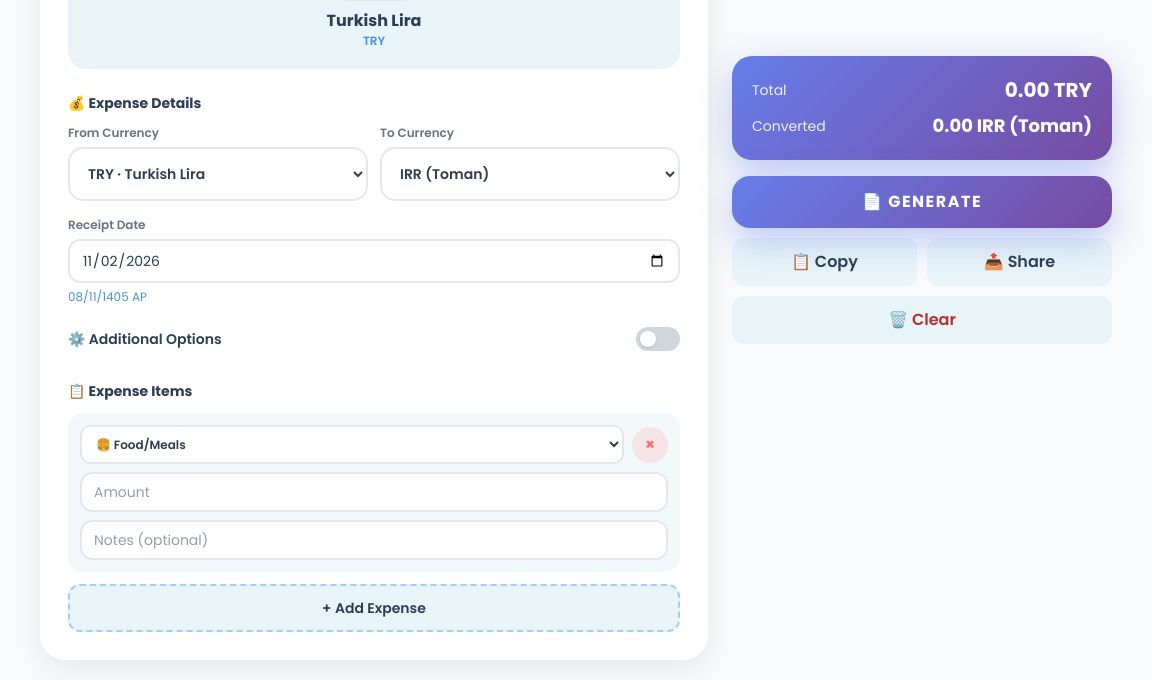
Receipt — the form (characterization for the WS-4 split) › the happy path: Generate opens the paper modal with the item rows, TOTAL and Receipt ID
(page scrolled)
Type "100" into the field named "Amount 1".
click(374, 492); type("100")  # box [80,472,668,512]
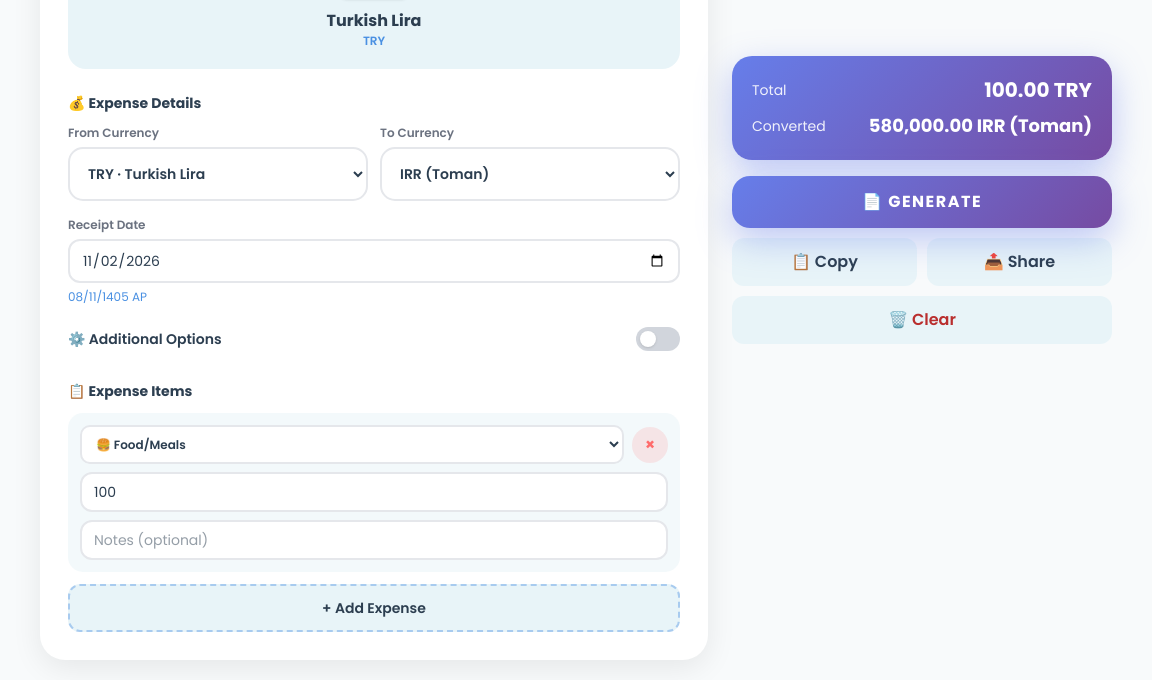
Type "kebab" into the field with placeholder "Notes (optional)".
click(374, 540); type("kebab")  # box [80,520,668,560]
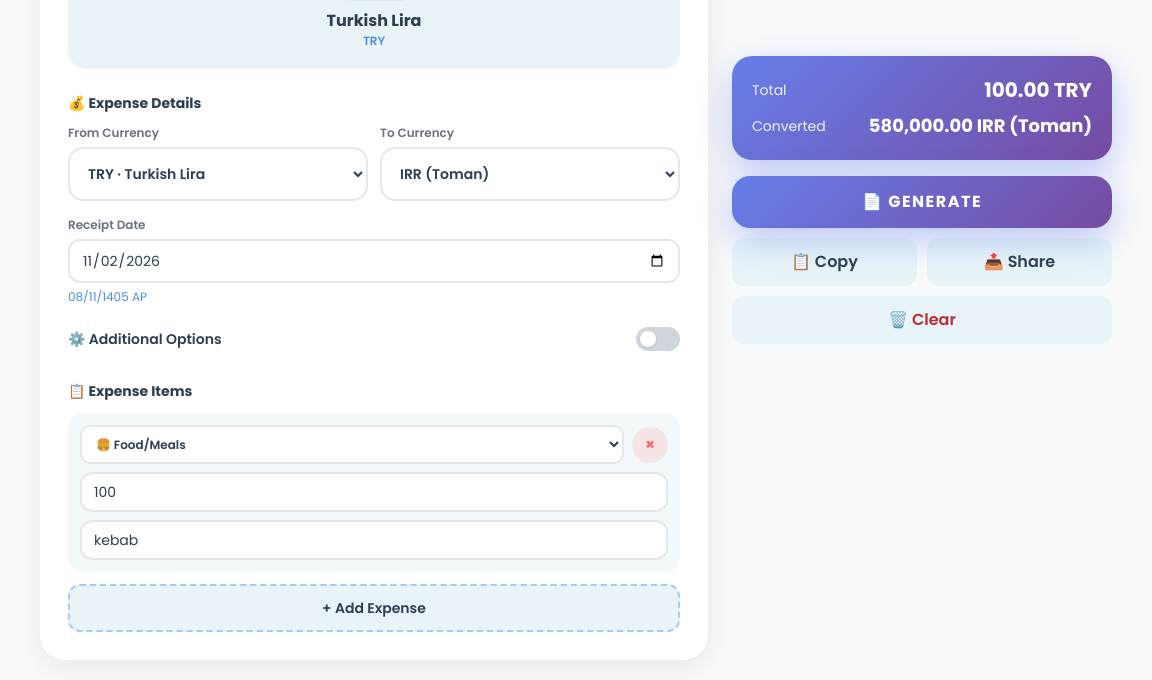
Click the button "📄 Generate".
click(922, 202)  # box [732,176,1112,228]
(page scrolled)
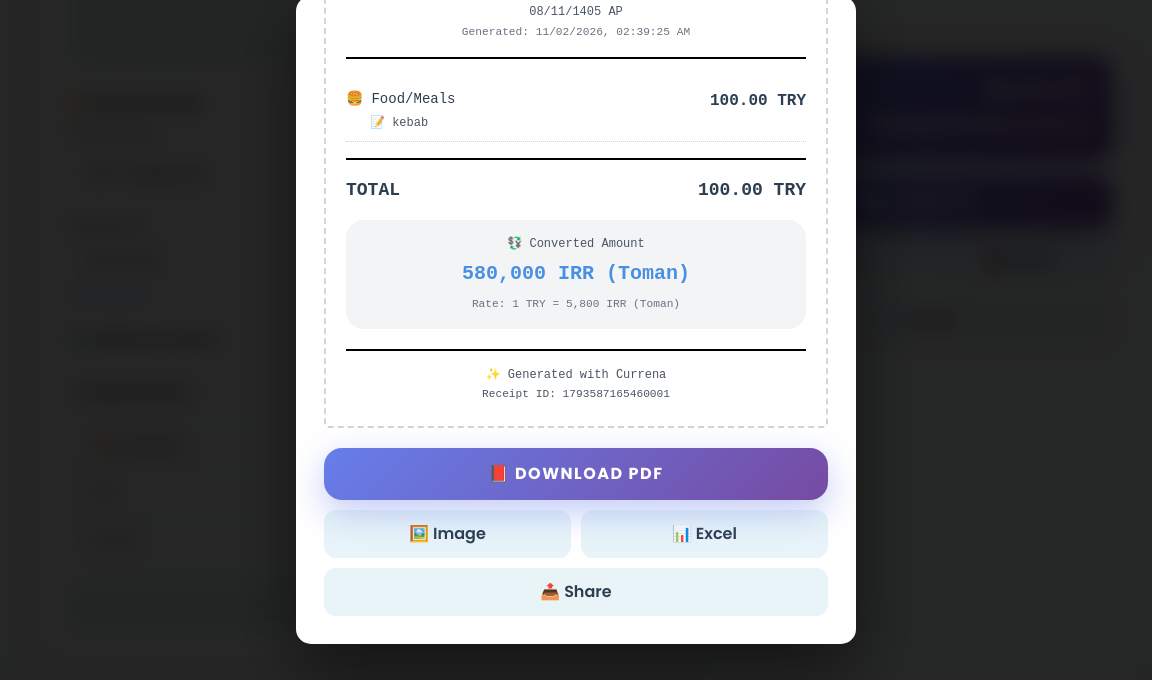
Expected: the button "📕 Download PDF" is shown, [324,448,828,500]
Expected: the button "📊 Excel" is shown, [581,510,828,558]
